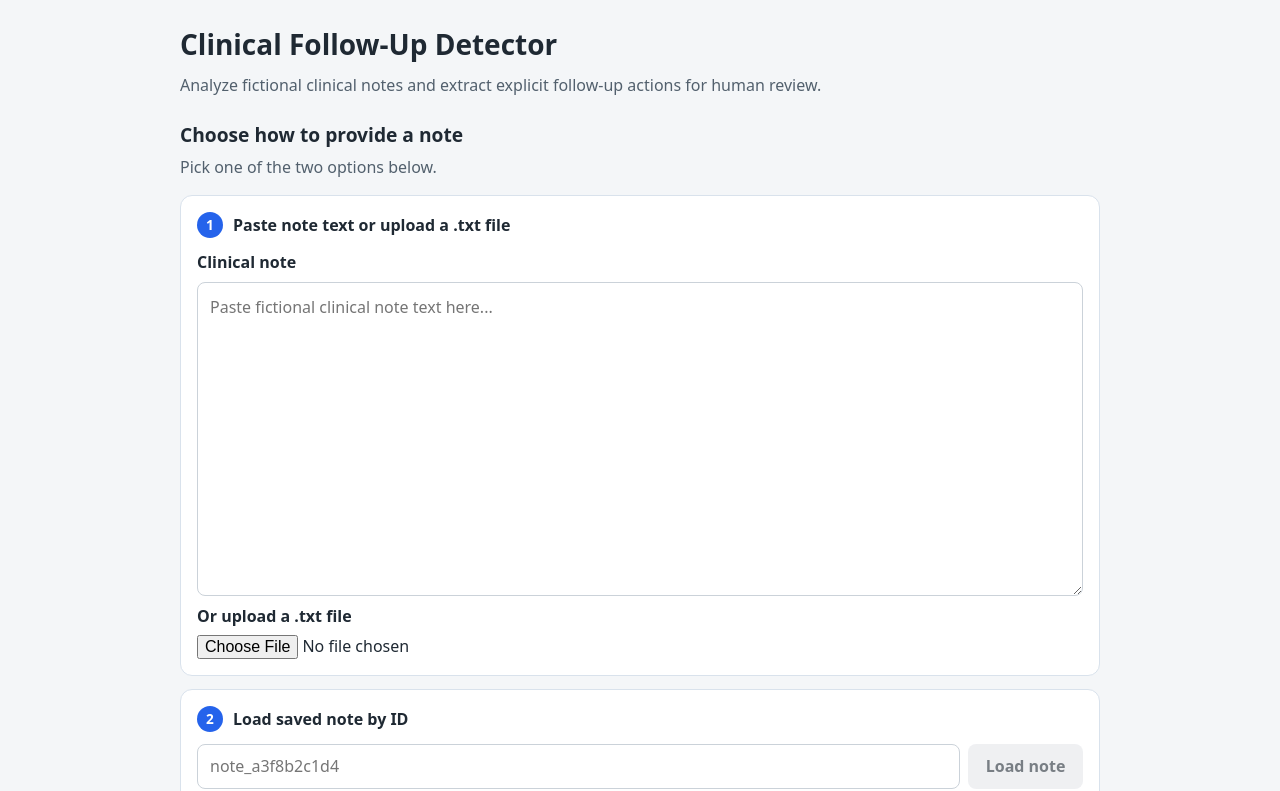
Test: action workflow › shows needsReview and uncertaintyReason
Type "The patient should repeat a CBC within seven days." into the text box labelled "Clinical note" at point(640, 439), box [197, 282, 1083, 596]
(page scrolled)
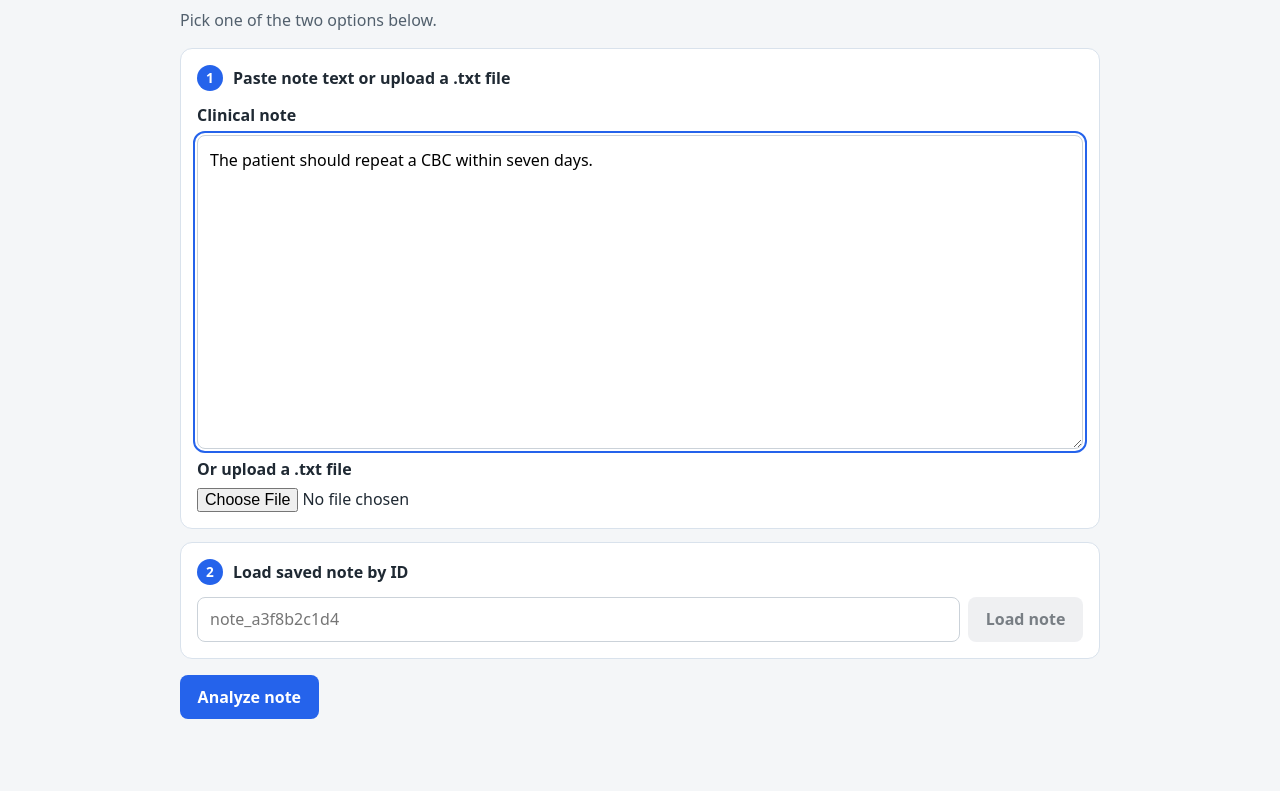
Click the button "Analyze note" at point(249, 697), box [180, 674, 319, 719]
(page scrolled)
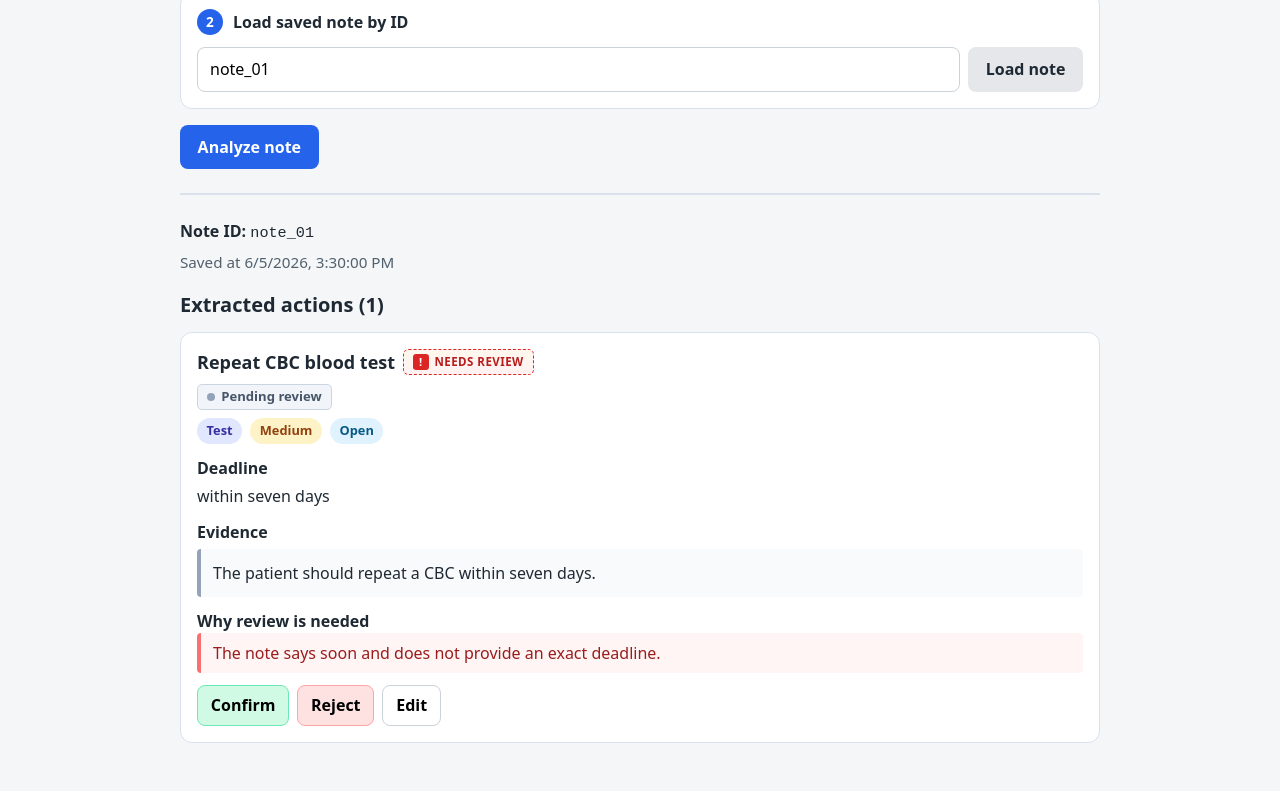
Expected: the heading "Repeat CBC blood test" is shown, [197, 348, 395, 376]
Expected: the text "Needs review" is shown, [403, 349, 534, 375]
Expected: the heading "Why review is needed" is shown, [197, 610, 369, 632]
Click the button with aria-label "Confirm action: Repeat CBC blood test" at point(243, 705), box [197, 685, 289, 726]
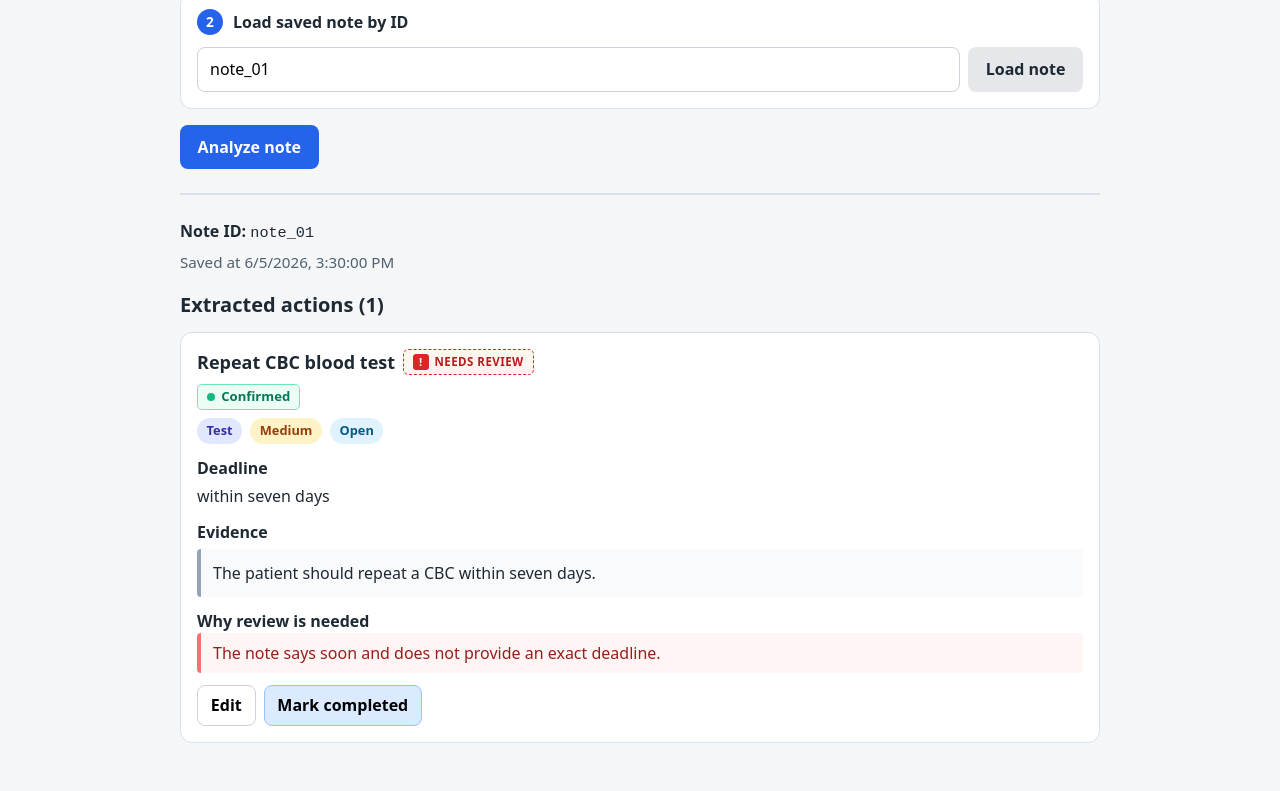
Expected: the text "Needs review" is shown, [403, 349, 534, 375]
Expected: the text "The note says soon and does not provide an exact deadline." is shown, [197, 633, 1083, 673]
Expected: the text "Confirmed" is shown, [197, 384, 300, 410]
